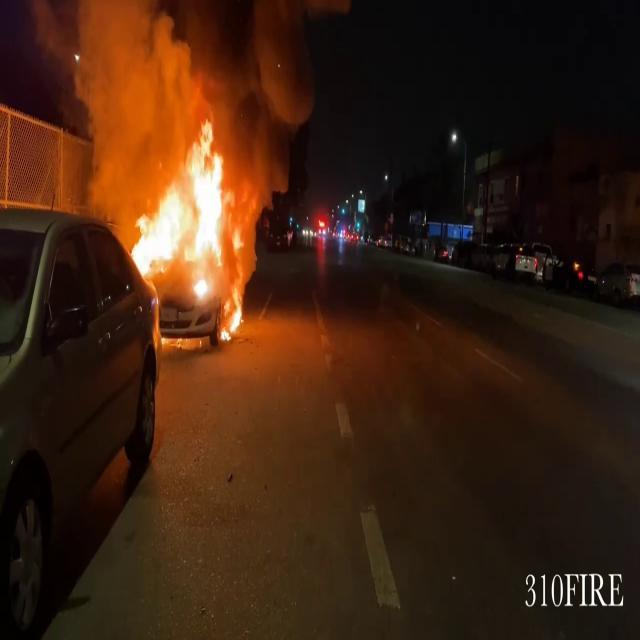Fire: (128, 118, 246, 336)
Smoke: (61, 1, 183, 198), (210, 1, 318, 201)
